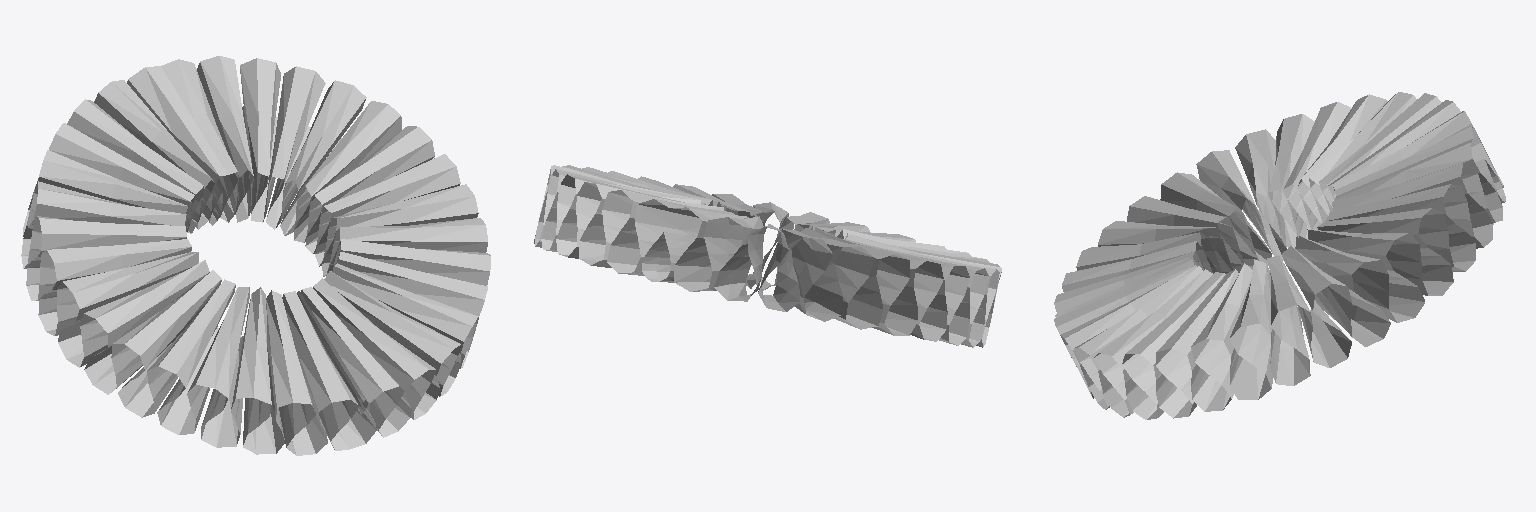
File: DonFernando_Ruffle_collar.obj
The picture shows the model from 3 angles: view 1: azimuth 30°, elevation 25°; view 2: azimuth 150°, elevation 25°; view 3: azimuth 270°, elevation 25°; orthographic projection.
Parts seen in each view (by area): view 1: DonFernando_Collar_mesh; view 2: DonFernando_Collar_mesh; view 3: DonFernando_Collar_mesh.
Part boxes in pixels (x1,y1,x2,y2): DonFernando_Collar_mesh: (21, 56, 490, 455); DonFernando_Collar_mesh: (534, 165, 1001, 347); DonFernando_Collar_mesh: (1054, 92, 1505, 419).
Size of the model in its own units: 1.94 by 1.13 by 1.89.